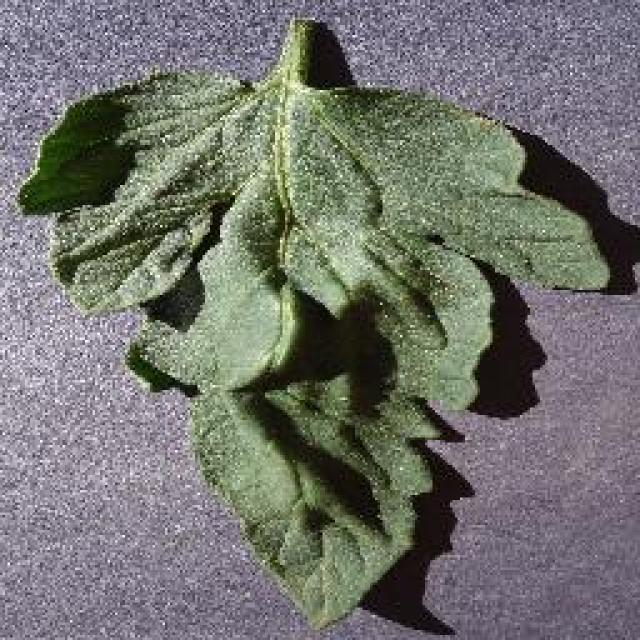Tomato___healthy: (14, 18, 621, 634)
